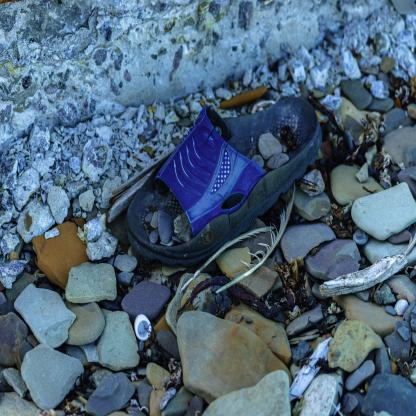trash: (122, 88, 325, 278)
